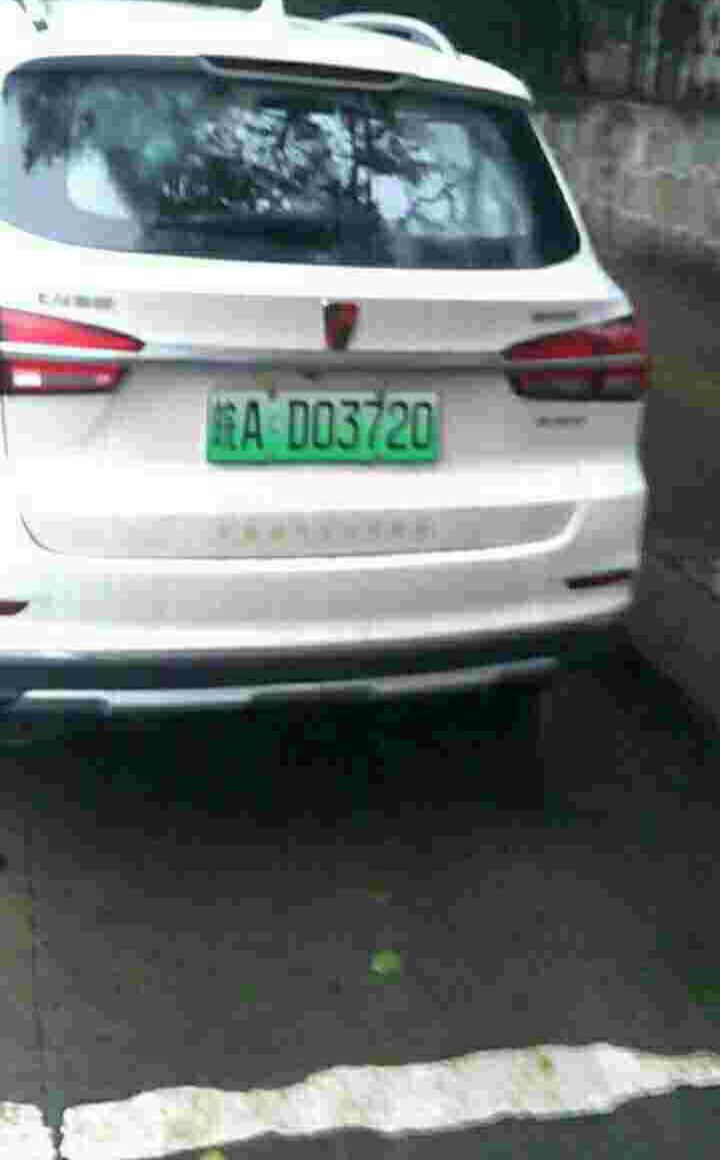car_green: (200, 380, 447, 472)
